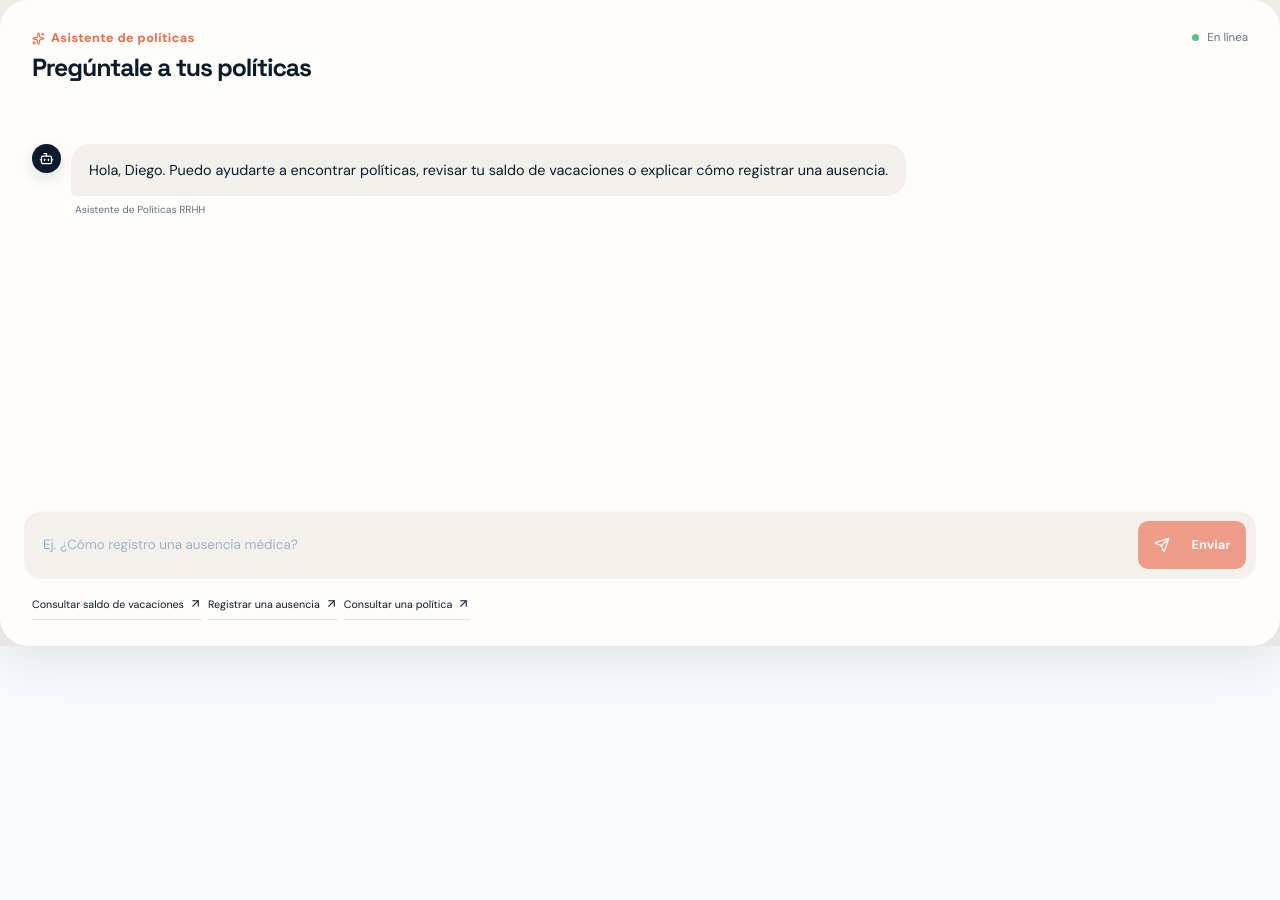
Test: ChatBox Markdown rendering › renders bold, italic, clean inline code, and bullet lists without literal asterisks or backticks
This screenshot has width=1280, height=900.
Type "¿Cuántos días de vacaciones tengo?" into the field with placeholder "Ej. ¿Cómo registro una ausencia médica?" at (584, 545), box [41,521,1128,569]
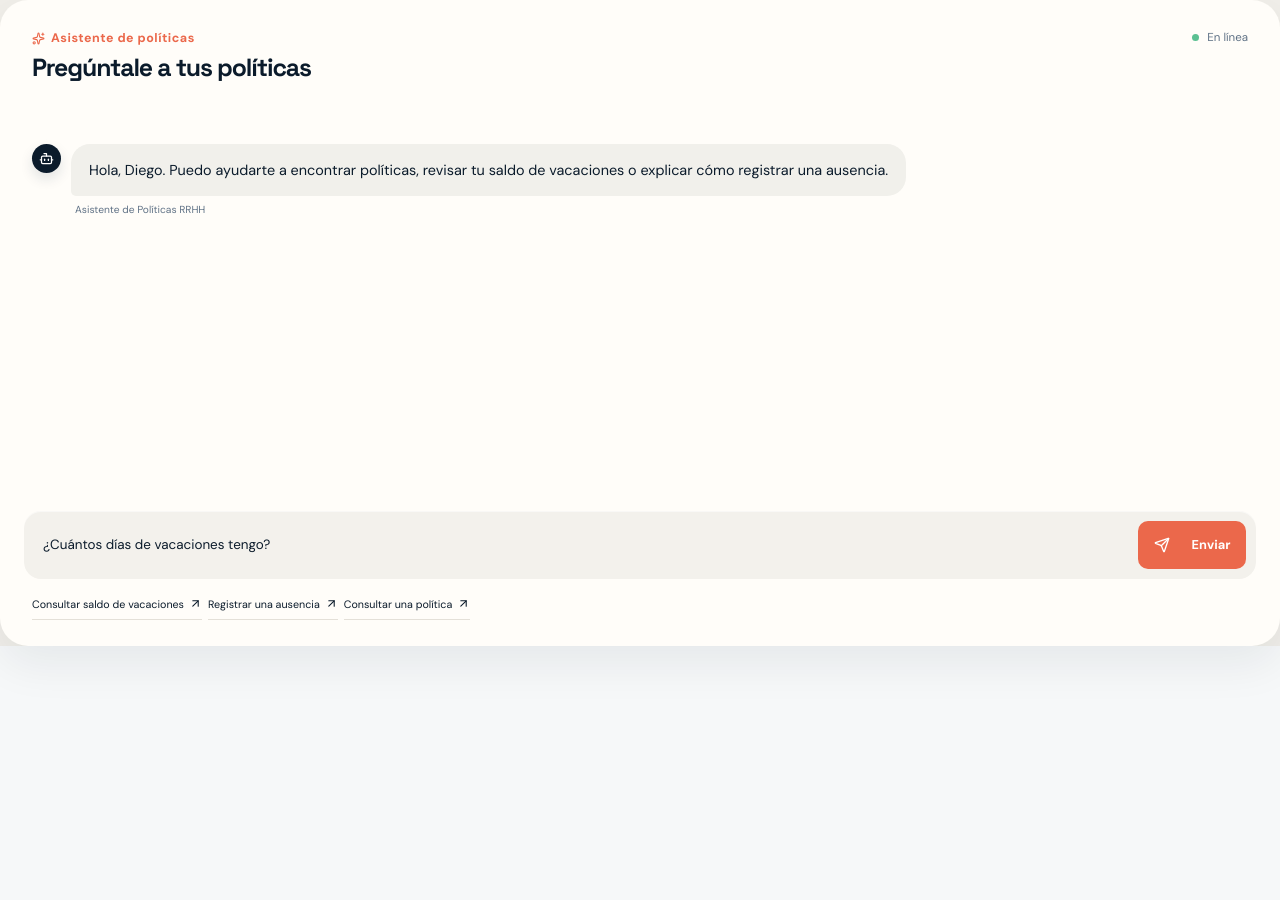
Click the button "Enviar" at (1192, 545), box [1138,521,1246,569]
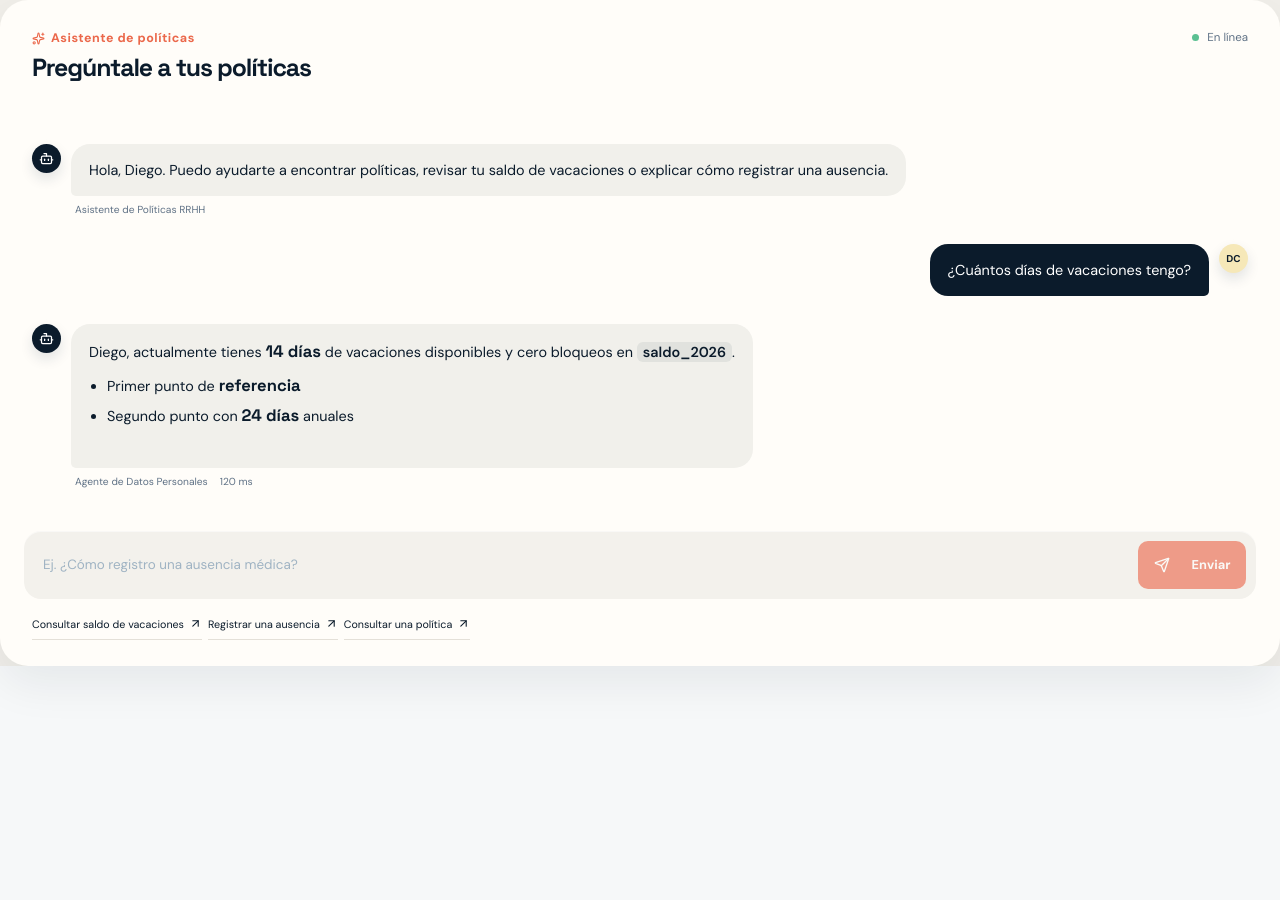
Check: the text "14 días" is shown, box [266,341,321,362]
Check: the list item "Primer punto de" is shown, box [107,377,219,395]
Check: the number of list items is 2, box [107,375,301,396]; [107,405,354,426]
